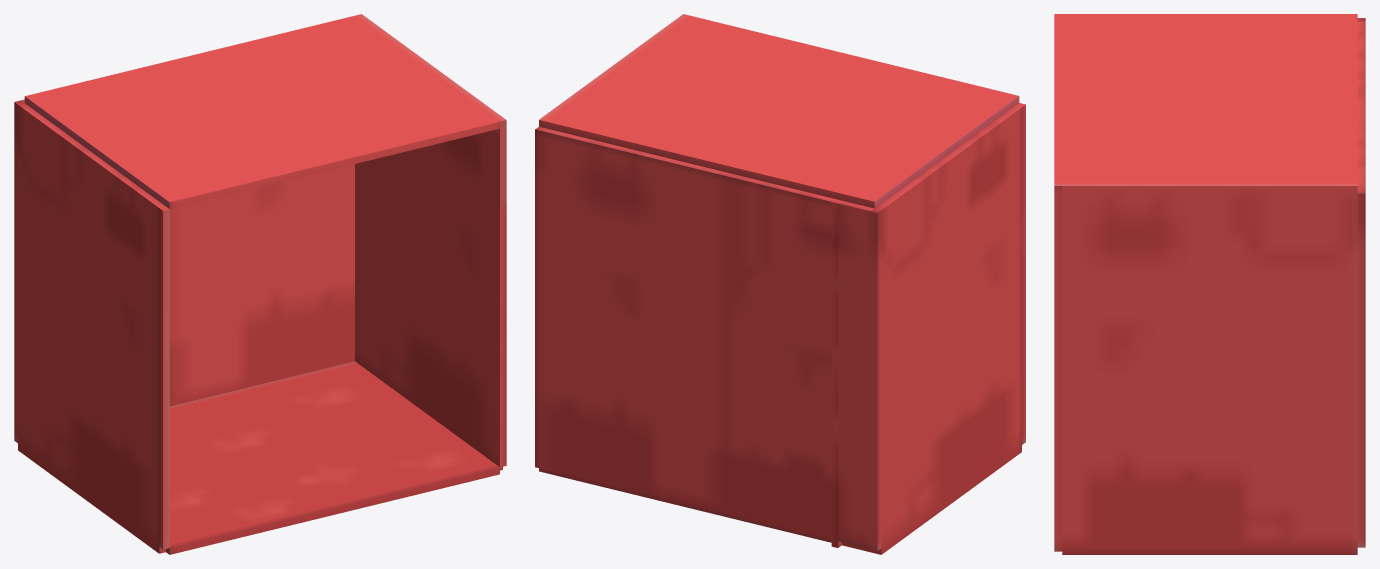
Rendered from BuildingModule_Interior_F_00.fbx.
The picture shows the model from 3 angles, left to right: view 1: azimuth 30°, elevation 25°; view 2: azimuth 150°, elevation 25°; view 3: azimuth 270°, elevation 25°; orthographic projection. The views are drawn at different scales.
Visible parts, largest first — view 1: BuildingModule_Interior_F_00; view 2: BuildingModule_Interior_F_00; view 3: BuildingModule_Interior_F_00.
Boxes of the visible parts, x1=… form: BuildingModule_Interior_F_00: x1=14, y1=14, x2=506, y2=554; BuildingModule_Interior_F_00: x1=535, y1=14, x2=1025, y2=554; BuildingModule_Interior_F_00: x1=1054, y1=14, x2=1365, y2=554.
Size of the model in its own units: 260 by 255 by 195.
